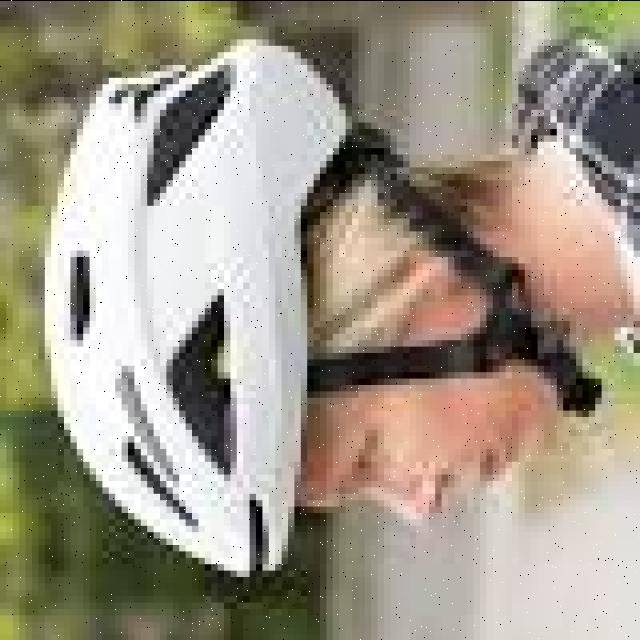Helmet: (26, 23, 379, 591)
